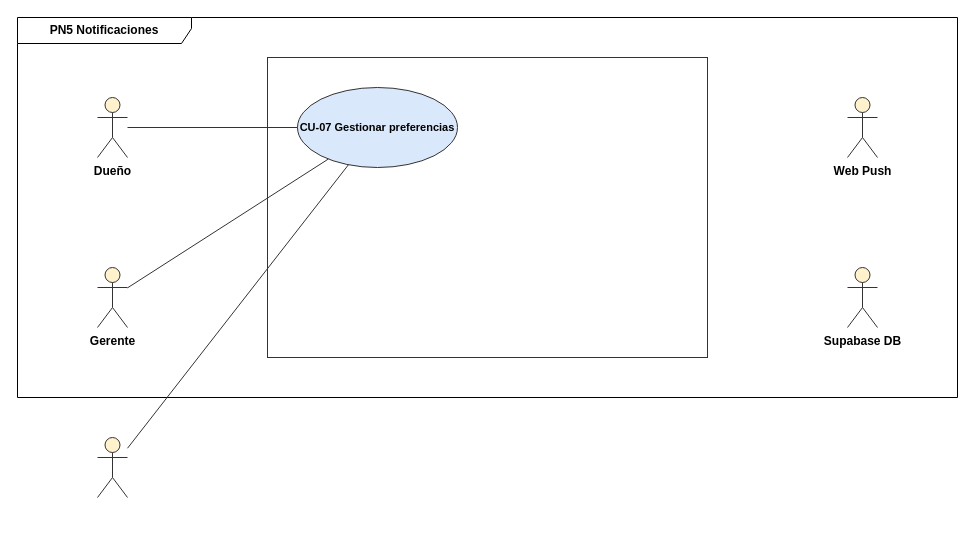
Image size: 975x536. Some labels were removed from this diagram. The shapes that lost their labels are listed below. From the top down, each one's box as (x1, y1, x2, y2) in pixels, then its label:
(266, 56, 708, 358): PayAlert · notificaciones
(96, 436, 128, 498): Cajero
